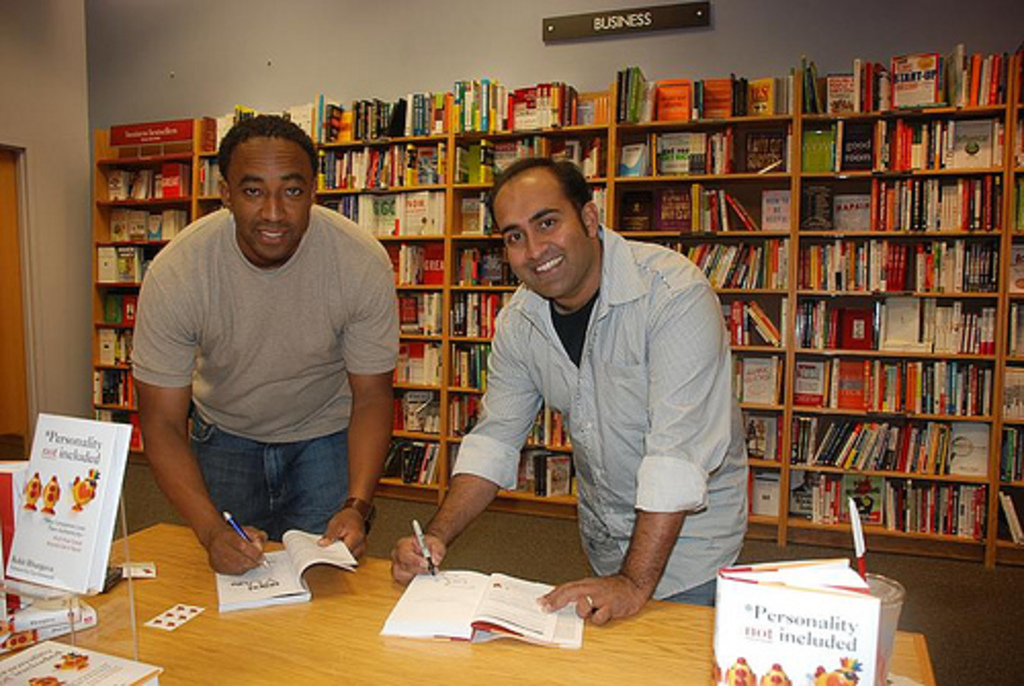Person: (391, 157, 749, 624), (128, 112, 400, 577)
